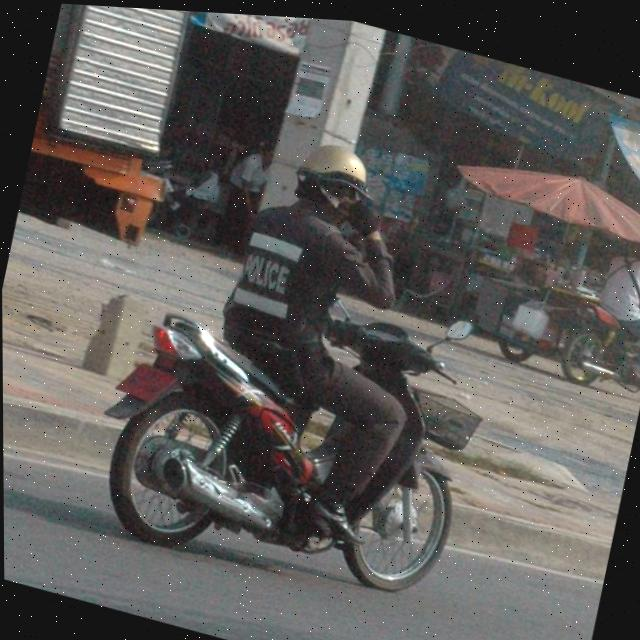motorcycle: (76, 259, 498, 634)
